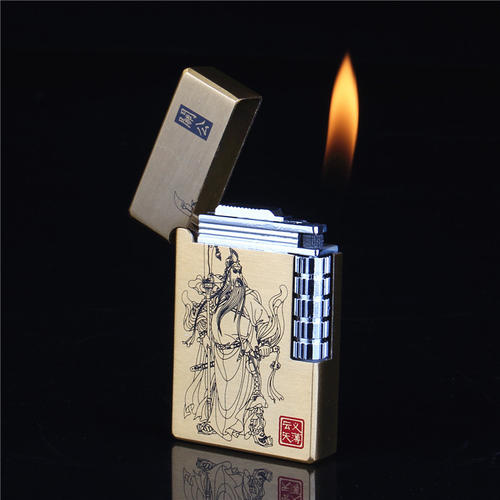Fire: (321, 56, 361, 190)
